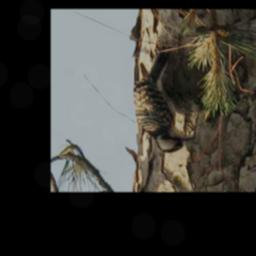Woodpecker: (133, 48, 197, 154)
